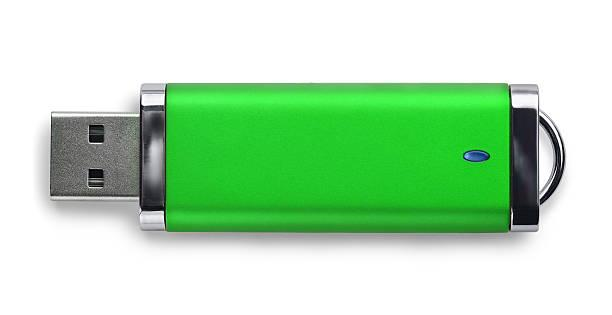USB Flash Drive: (50, 82, 540, 234)
